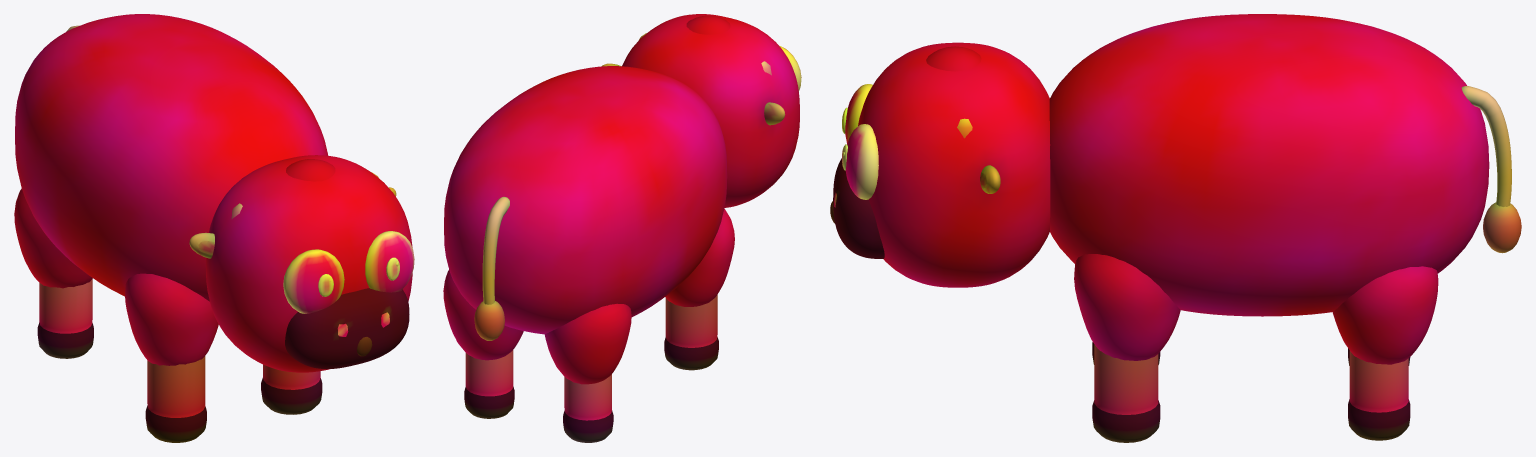
The model's file is Bison_Calf.fbx.
The picture shows the model from 3 angles, left to right: view 1: azimuth 30°, elevation 25°; view 2: azimuth 150°, elevation 25°; view 3: azimuth 270°, elevation 25°; orthographic projection. The views are drawn at different scales.
Visible parts, largest first — view 1: Body, Head, Leg_FR, Muzzle, Leg_BR, Eye_R, Leg_FL, Eye_L, Tuft, Ear_R; view 2: Body, Head, Leg_BR, Leg_FR, Leg_BL, Tail, Tuft, Ear_R; view 3: Body, Head, Leg_FL, Leg_BL, Tail, Muzzle, Eye_L, Tuft, Eye_R.
Part boxes in pixels (<box>): Body: <box>15,14,328,301</box>; Head: <box>205,155,412,372</box>; Leg_FR: <box>125,273,218,442</box>; Muzzle: <box>285,288,409,369</box>; Leg_BR: <box>14,188,93,358</box>; Eye_R: <box>283,249,344,313</box>; Leg_FL: <box>261,364,322,414</box>; Eye_L: <box>365,231,414,292</box>; Tuft: <box>286,159,335,181</box>; Ear_R: <box>189,232,214,258</box>; Body: <box>444,66,727,334</box>; Head: <box>622,14,799,207</box>; Leg_BR: <box>544,303,631,442</box>; Leg_FR: <box>664,208,734,370</box>; Leg_BL: <box>443,269,523,418</box>; Tail: <box>474,196,509,340</box>; Tuft: <box>686,15,730,34</box>; Ear_R: <box>764,102,785,125</box>; Body: <box>1049,14,1489,316</box>; Head: <box>858,42,1050,287</box>; Leg_FL: <box>1074,254,1180,442</box>; Leg_BL: <box>1332,266,1438,440</box>; Tail: <box>1461,86,1521,253</box>; Muzzle: <box>833,158,884,258</box>; Eye_L: <box>845,124,878,199</box>; Tuft: <box>926,46,981,71</box>; Eye_R: <box>845,84,872,143</box>.
Bounding box in the file's own units: 0.5152 × 0.6944 × 1.2.
